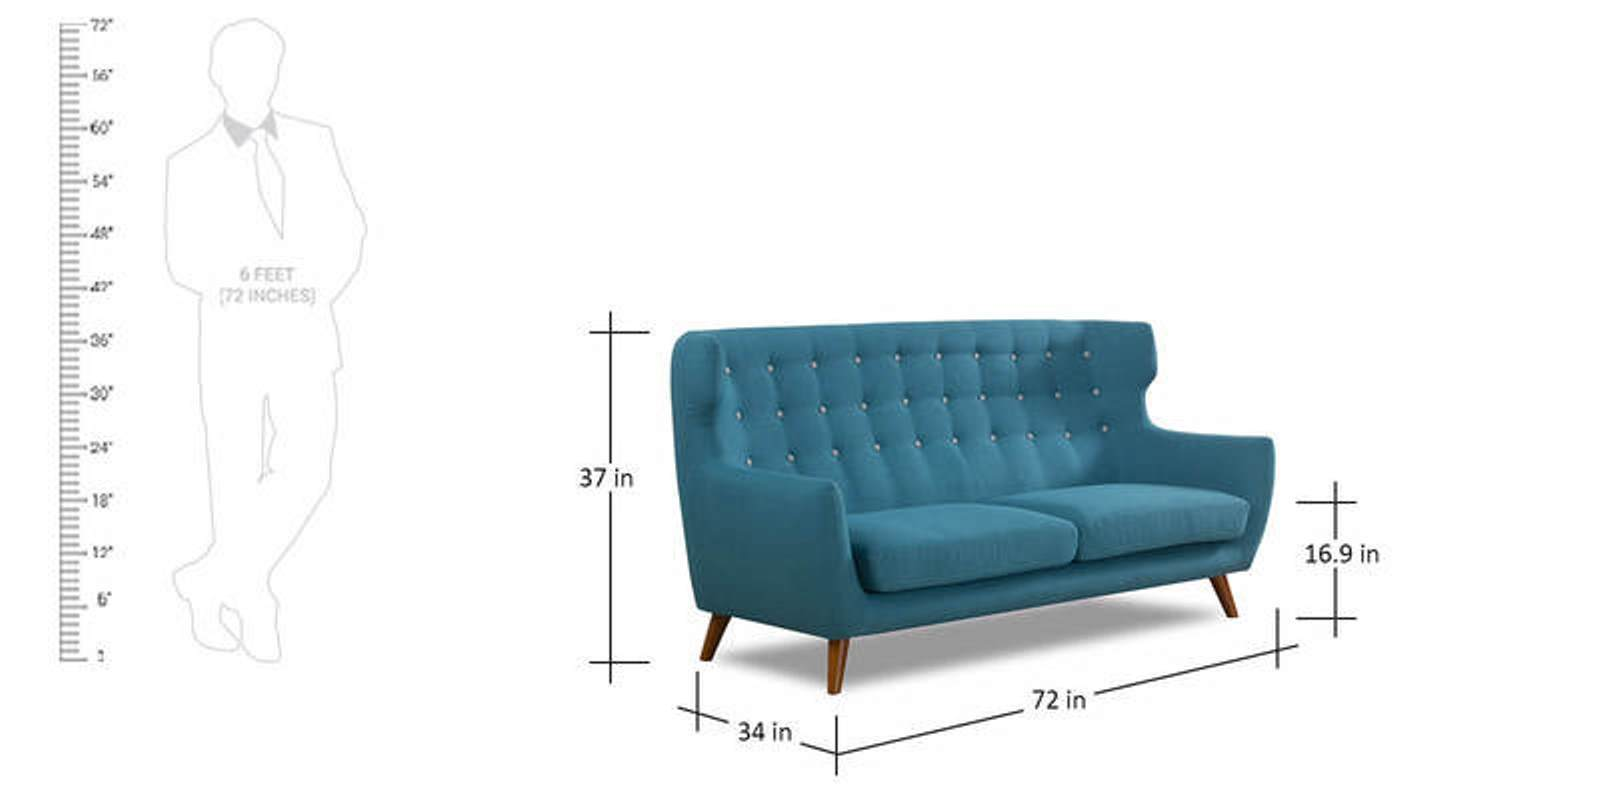Valencia Three Seater Sofa in Ocean Blue Colour by CasaCraft: (660, 311, 1291, 658)
